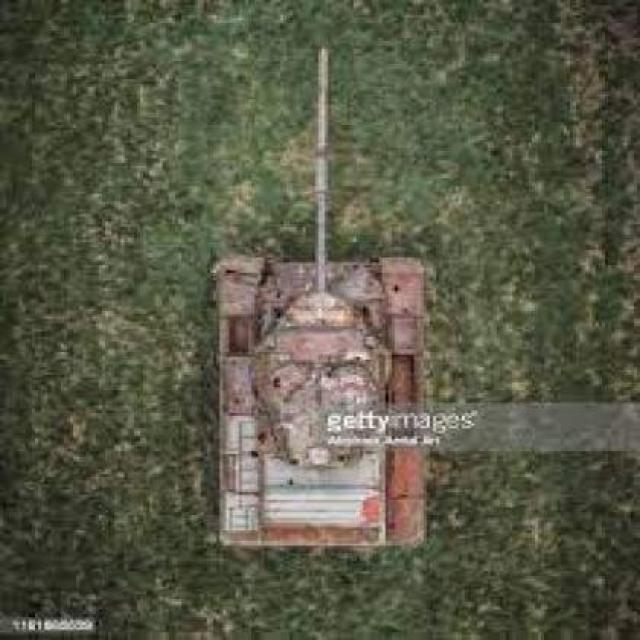tank: (216, 41, 429, 547)
